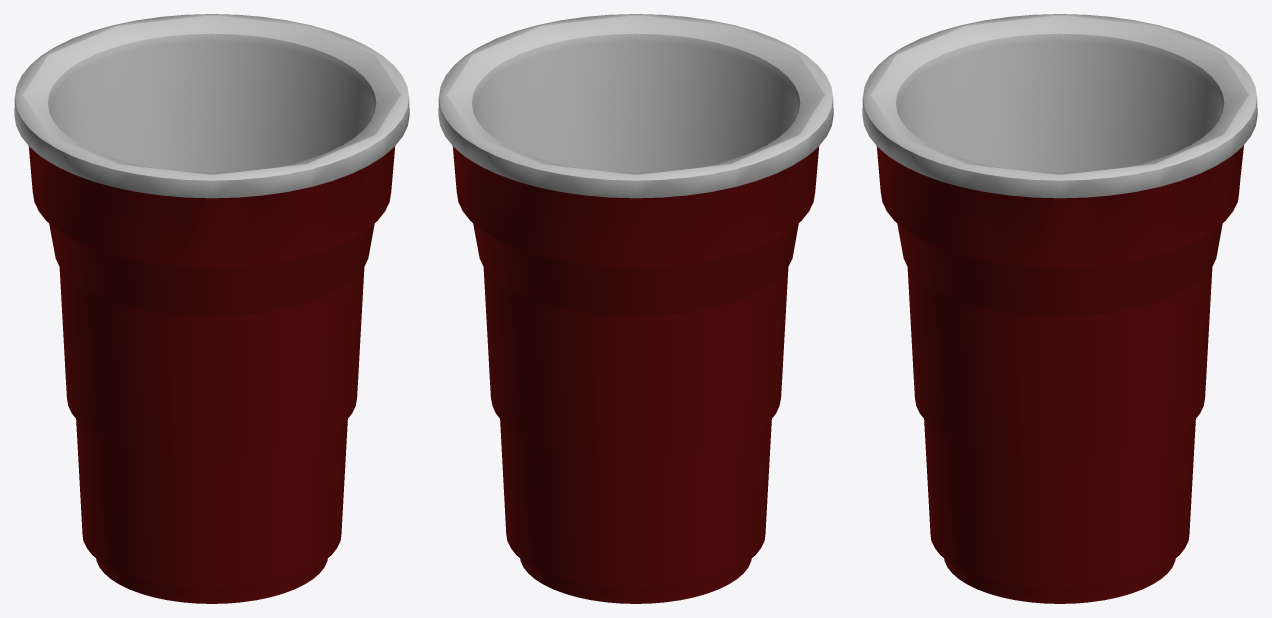
The model's file is Red party cup.fbx.
3 views of the same model, side by side, from view 1: azimuth 30°, elevation 25°; view 2: azimuth 150°, elevation 25°; view 3: azimuth 270°, elevation 25° (orthographic).
Visible parts, largest first — view 1: Cup; view 2: Cup; view 3: Cup.
Boxes of the visible parts, <box> form: Cup: <box>14,14,409,603</box>; Cup: <box>438,14,833,603</box>; Cup: <box>862,14,1257,603</box>.
Size of the model in its own units: 63.25 by 81.15 by 63.25.
